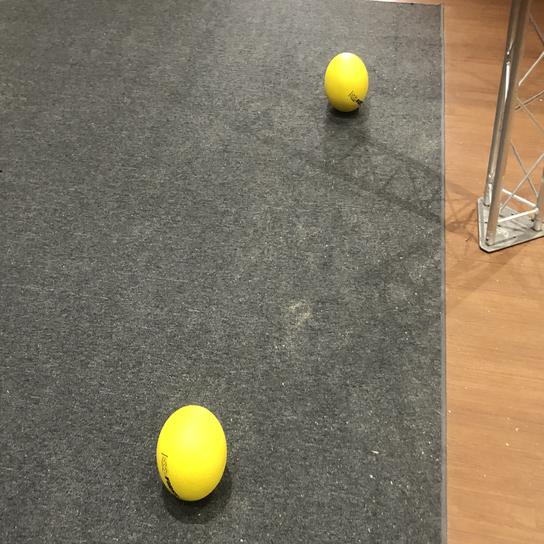ball: (154, 400, 227, 507), (323, 51, 372, 116)
